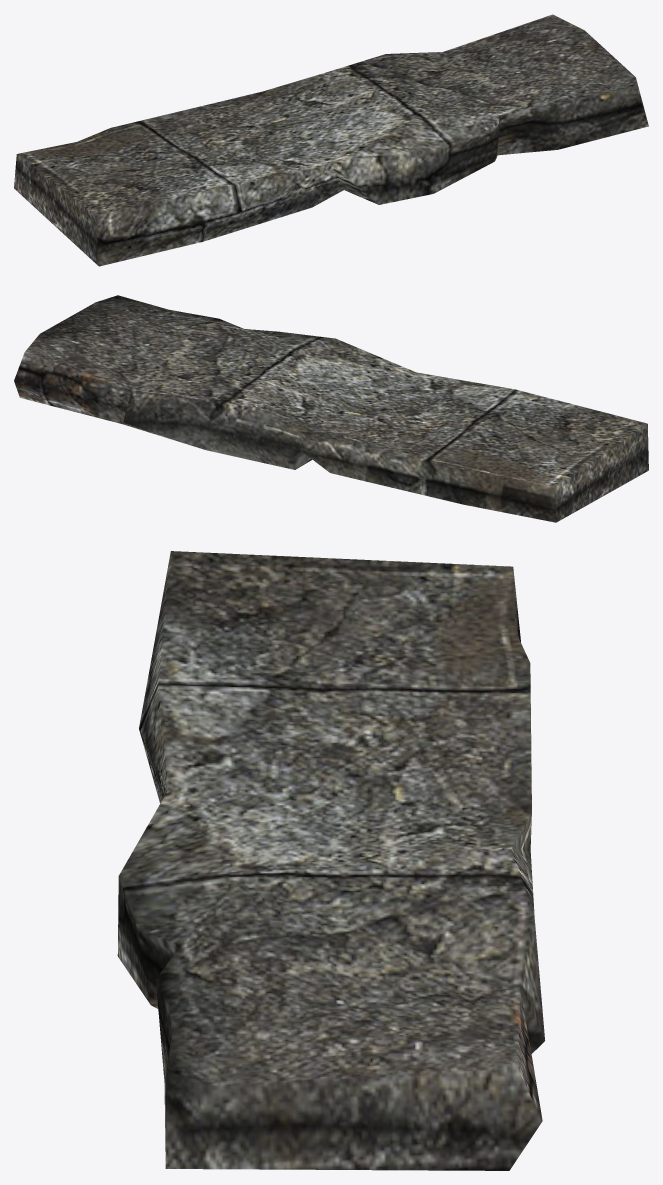
File: Brick2.fbx
3 views of the same model, one above another, from view 1: azimuth 30°, elevation 25°; view 2: azimuth 150°, elevation 25°; view 3: azimuth 270°, elevation 25° (orthographic). The views are drawn at different scales.
Parts seen in each view (by area): view 1: Brick2; view 2: Brick2; view 3: Brick2.
Part boxes in pixels (box(x1,y1,x2,y2)): Brick2: box(14, 14, 648, 266); Brick2: box(14, 295, 648, 522); Brick2: box(117, 551, 544, 1170).
Bounding box in the file's own units: 44.07 × 4.07 × 14.97.
